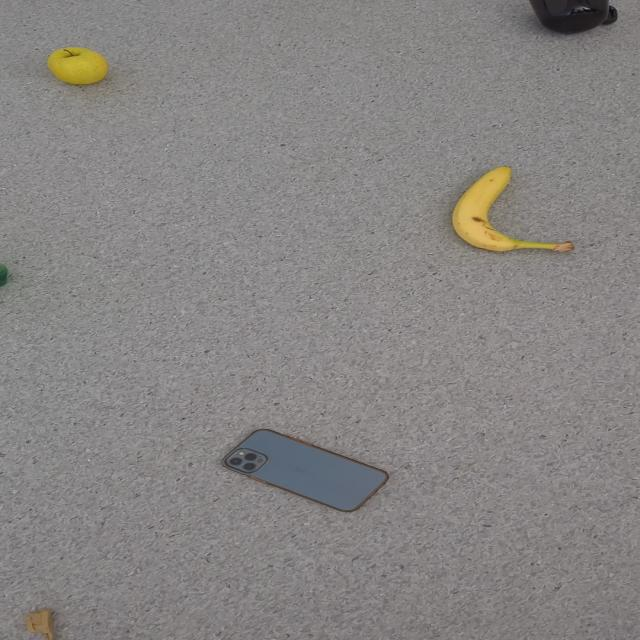apple: (46, 47, 108, 85)
banana: (450, 165, 574, 253)
mug: (528, 0, 618, 34)
phone: (220, 428, 390, 513)
